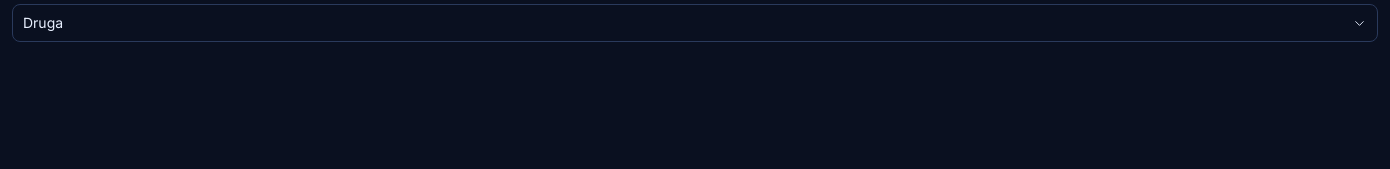
Select › zaznacza aktualną opcję dla czytników ekranu
Click the button with aria-label "Wybór" at (43, 22), box 12,4 -> 1378,42
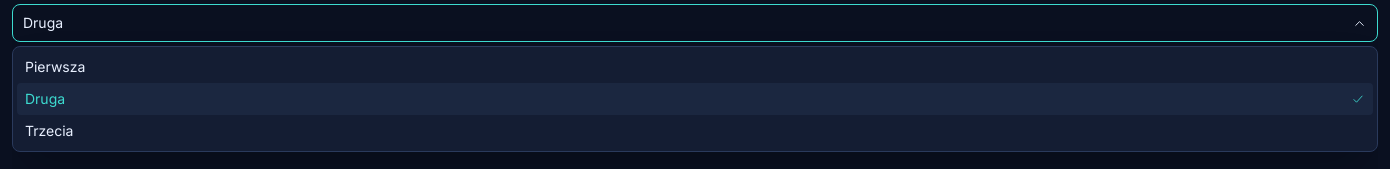
Result: the option "Druga" is shown at 17,83 -> 1373,115
